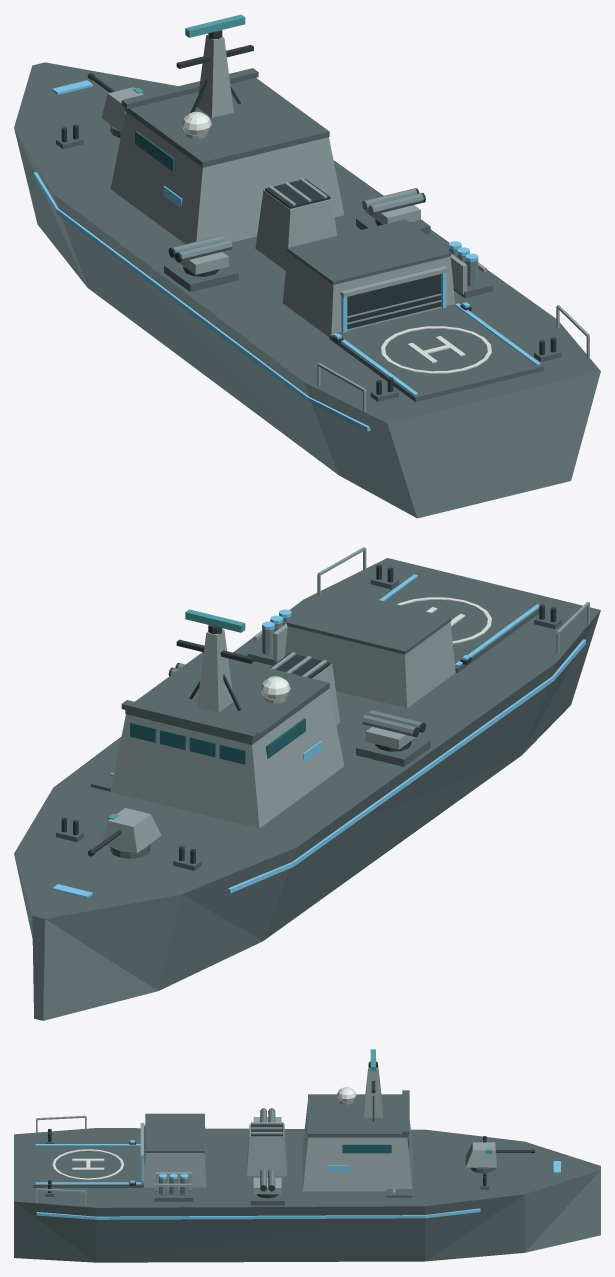
Rendered from ESC_ASW_T1.fbx.
3 views of the same model, one above another, from view 1: azimuth 30°, elevation 25°; view 2: azimuth 150°, elevation 25°; view 3: azimuth 270°, elevation 25° (orthographic). The views are drawn at different scales.
Parts seen in each view (by area): view 1: ContinuousHull.005, Deckhouse.005, HelicopterDeck, Roof.005, HangarRoof, AviationServiceHouse.001, FunnelEnclosure.005, AftFacingHangarDoor, NavMast.001, RoleHullStripe-1_1, BridgeBrow, TorpedoFoot_P (+6 smaller); view 2: ContinuousHull.005, Deckhouse.005, AviationServiceHouse.001, Roof.005, HangarRoof, HelicopterDeck, NavMast.001, PrimaryGunCupola.005, RoleHullStripe-1_1, BridgeBrow, TorpedoFoot_P, TorpedoCradle_P (+2 smaller); view 3: ContinuousHull.005, Deckhouse.005, HelicopterDeck, Roof.005, HangarRoof, AviationServiceHouse.001, FunnelEnclosure.005, RoleHullStripe1_1, NavMast.001, PrimaryGunCupola.005, BridgeSideGlass1, TorpedoFoot_S (+5 smaller).
Boxes of the visible parts, x1=… form: ContinuousHull.005: x1=14, y1=62, x2=600, y2=518; Deckhouse.005: x1=110, y1=112, x2=344, y2=243; HelicopterDeck: x1=329, y1=304, x2=543, y2=402; Roof.005: x1=125, y1=78, x2=329, y2=167; HangarRoof: x1=287, y1=219, x2=451, y2=284; AviationServiceHouse.001: x1=282, y1=252, x2=455, y2=336; FunnelEnclosure.005: x1=255, y1=190, x2=336, y2=270; AftFacingHangarDoor: x1=347, y1=274, x2=440, y2=329; NavMast.001: x1=197, y1=34, x2=233, y2=117; RoleHullStripe-1_1: x1=56, y1=208, x2=308, y2=400; BridgeBrow: x1=121, y1=68, x2=258, y2=109; TorpedoFoot_P: x1=164, y1=262, x2=238, y2=291; ContinuousHull.005: x1=14, y1=558, x2=600, y2=1020; Deckhouse.005: x1=110, y1=689, x2=344, y2=828; AviationServiceHouse.001: x1=284, y1=622, x2=455, y2=708; Roof.005: x1=125, y1=652, x2=329, y2=744; HangarRoof: x1=287, y1=589, x2=451, y2=654; HelicopterDeck: x1=385, y1=574, x2=539, y2=673; NavMast.001: x1=196, y1=629, x2=233, y2=712; PrimaryGunCupola.005: x1=102, y1=808, x2=161, y2=853; RoleHullStripe-1_1: x1=292, y1=676, x2=553, y2=866; BridgeBrow: x1=121, y1=700, x2=258, y2=740; TorpedoFoot_P: x1=356, y1=737, x2=430, y2=766; TorpedoCradle_P: x1=365, y1=726, x2=420, y2=749; ContinuousHull.005: x1=14, y1=1128, x2=600, y2=1262; Deckhouse.005: x1=303, y1=1101, x2=412, y2=1191; HelicopterDeck: x1=33, y1=1145, x2=143, y2=1187; Roof.005: x1=308, y1=1094, x2=407, y2=1137; HangarRoof: x1=145, y1=1113, x2=204, y2=1152; AviationServiceHouse.001: x1=143, y1=1125, x2=206, y2=1187; FunnelEnclosure.005: x1=247, y1=1123, x2=287, y2=1176; RoleHullStripe1_1: x1=96, y1=1215, x2=424, y2=1219; NavMast.001: x1=363, y1=1065, x2=382, y2=1117; PrimaryGunCupola.005: x1=465, y1=1142, x2=496, y2=1167; BridgeSideGlass1: x1=342, y1=1144, x2=391, y2=1153; TorpedoFoot_S: x1=250, y1=1185, x2=284, y2=1205.
Size of the model in its own units: 290 by 310 by 900.
